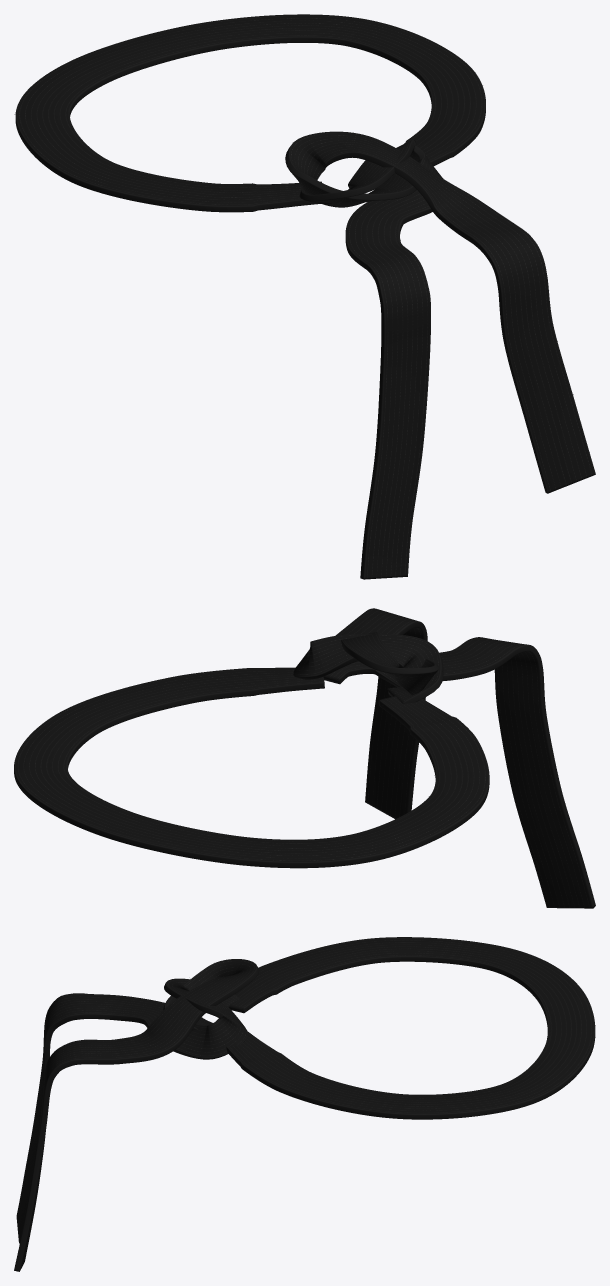
The model's file is belt.glb.
The picture shows the model from 3 angles, top to bottom: view 1: azimuth 30°, elevation 25°; view 2: azimuth 150°, elevation 25°; view 3: azimuth 270°, elevation 25°; orthographic projection. The views are drawn at different scales.
Visible parts, largest first — view 1: Belt; view 2: Belt; view 3: Belt.
Part boxes in pixels (bbox=[...]): Belt: bbox=[14, 14, 595, 579]; Belt: bbox=[14, 608, 595, 908]; Belt: bbox=[14, 937, 595, 1271].
Size of the model in its own units: 0.3545 by 0.272 by 0.4903.
1 material, 1 textured.
